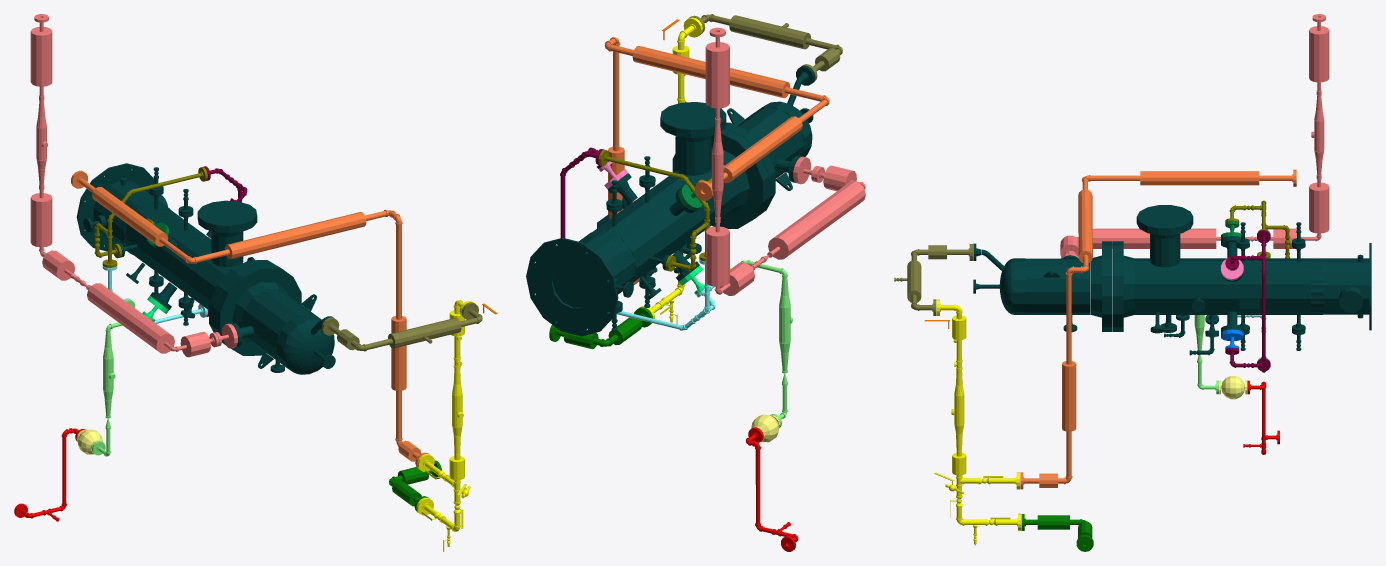
3 views of the same model, side by side, from view 1: azimuth 30°, elevation 25°; view 2: azimuth 150°, elevation 25°; view 3: azimuth 270°, elevation 25° (orthographic). The views are drawn at different scales.
Visible parts, largest first — view 1: 三维立体; view 2: 三维立体; view 3: 三维立体.
Boxes of the visible parts, x1,y1,x2,y2 form: 三维立体: (14, 14, 497, 551); 三维立体: (526, 14, 865, 551); 三维立体: (894, 14, 1371, 551).
Size of the model in its own units: 3122 by 4420 by 4286.
